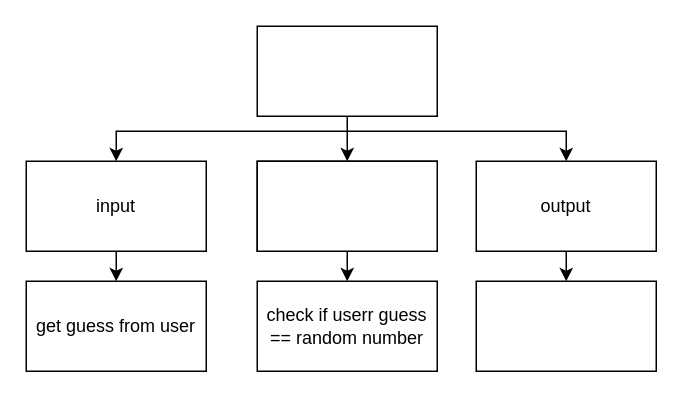
Some shapes in this 683 by 398 pixel diagram are drawn without their labels. Here are the shapes that lost their labels. From the top down, the centre of each, then its label:
At pixel 346 70: "guessing number program".
At pixel 346 205: "process".
At pixel 565 325: "show answer".
